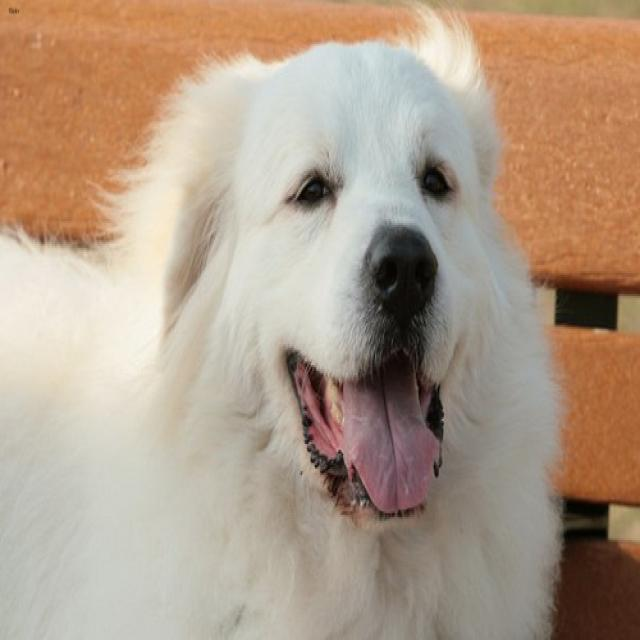dog-great_pyrenees: (1, 2, 576, 636)
